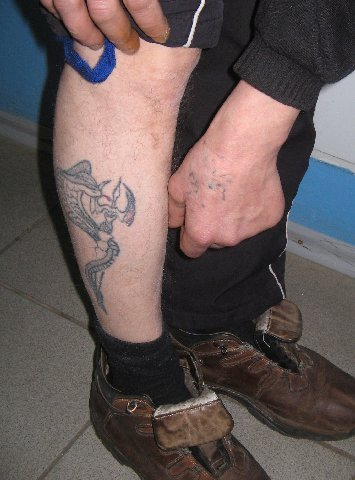tatu7_zmeya: (47, 143, 145, 312)
